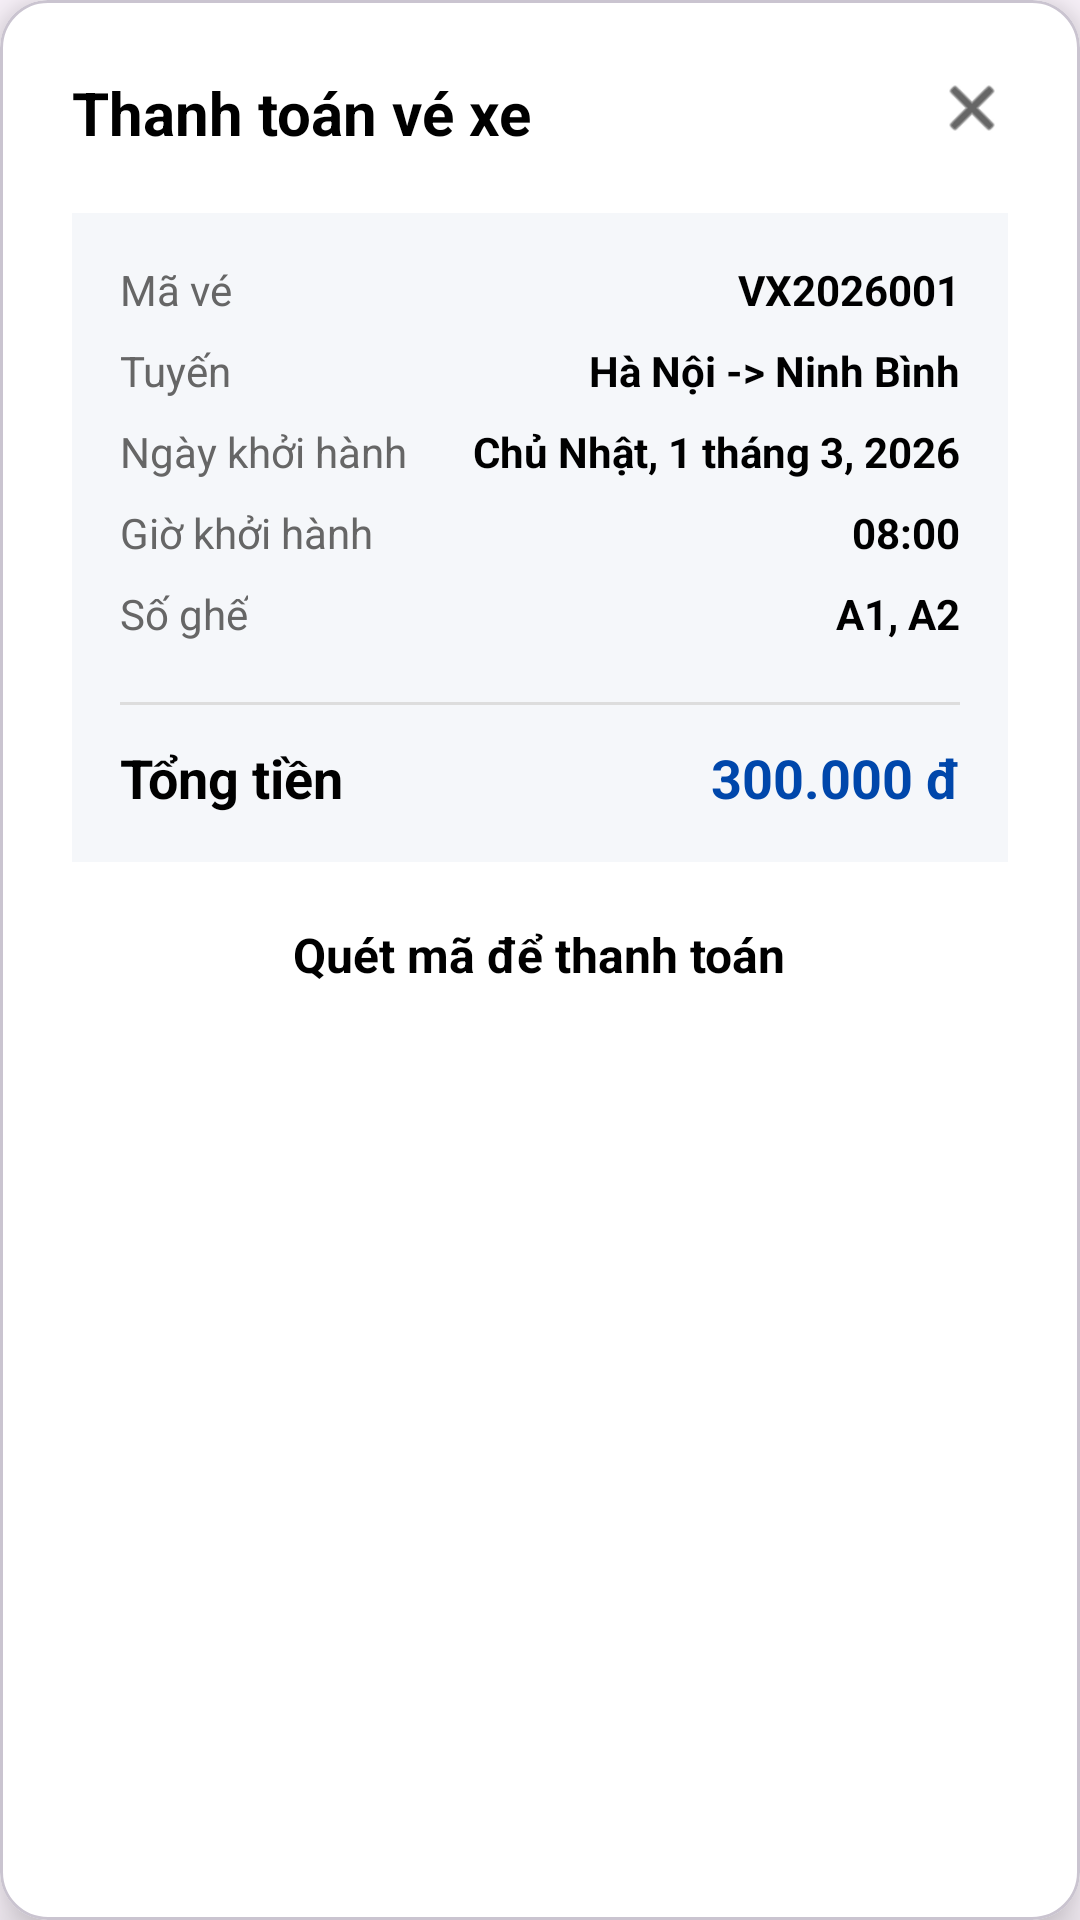

Named icons in this screenshot (1080x1920) and their bounding boxes, (x1, y1, x2, y2):
close clear cancel: (949, 85, 995, 131)
